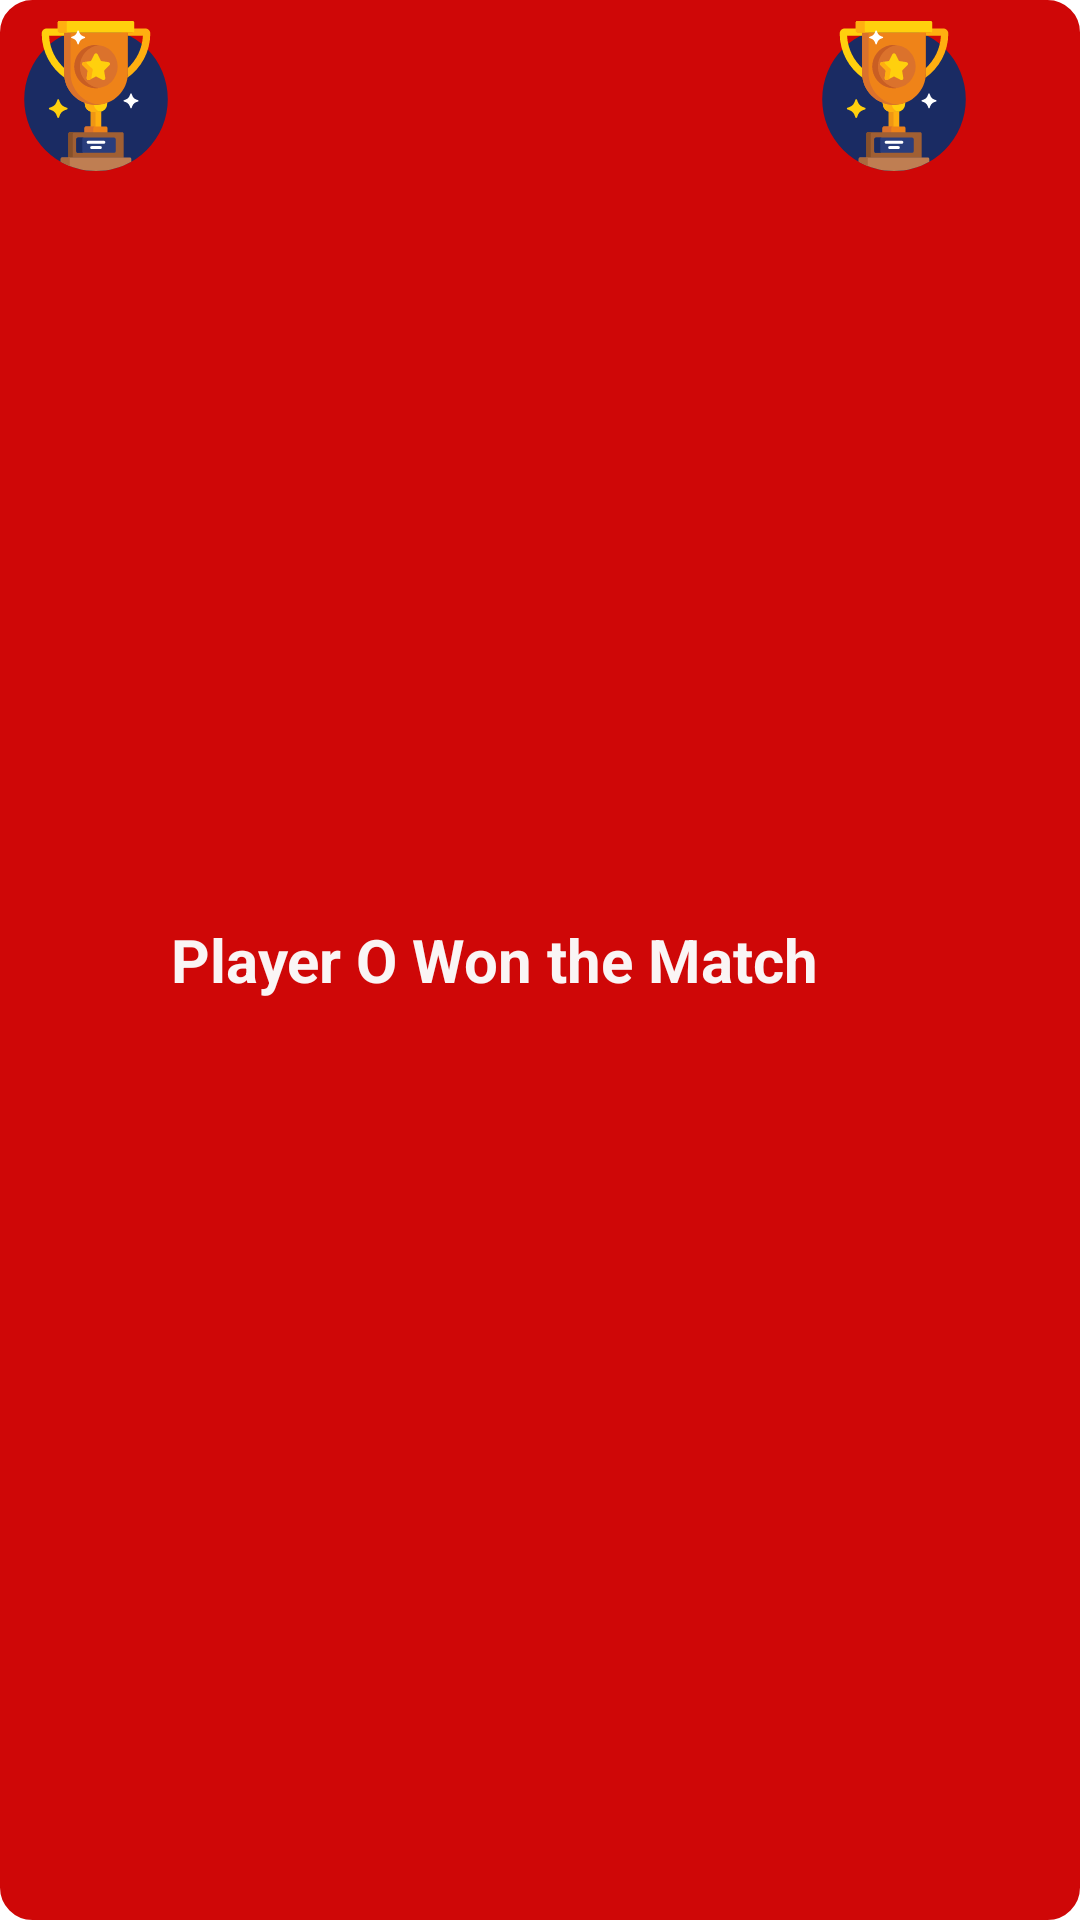

Icon bounding boxes for this 1080 x 1920 phone screenshot, format (x1, y1, x2, y2):
trophy: (24, 21, 168, 171), (822, 21, 966, 171)
